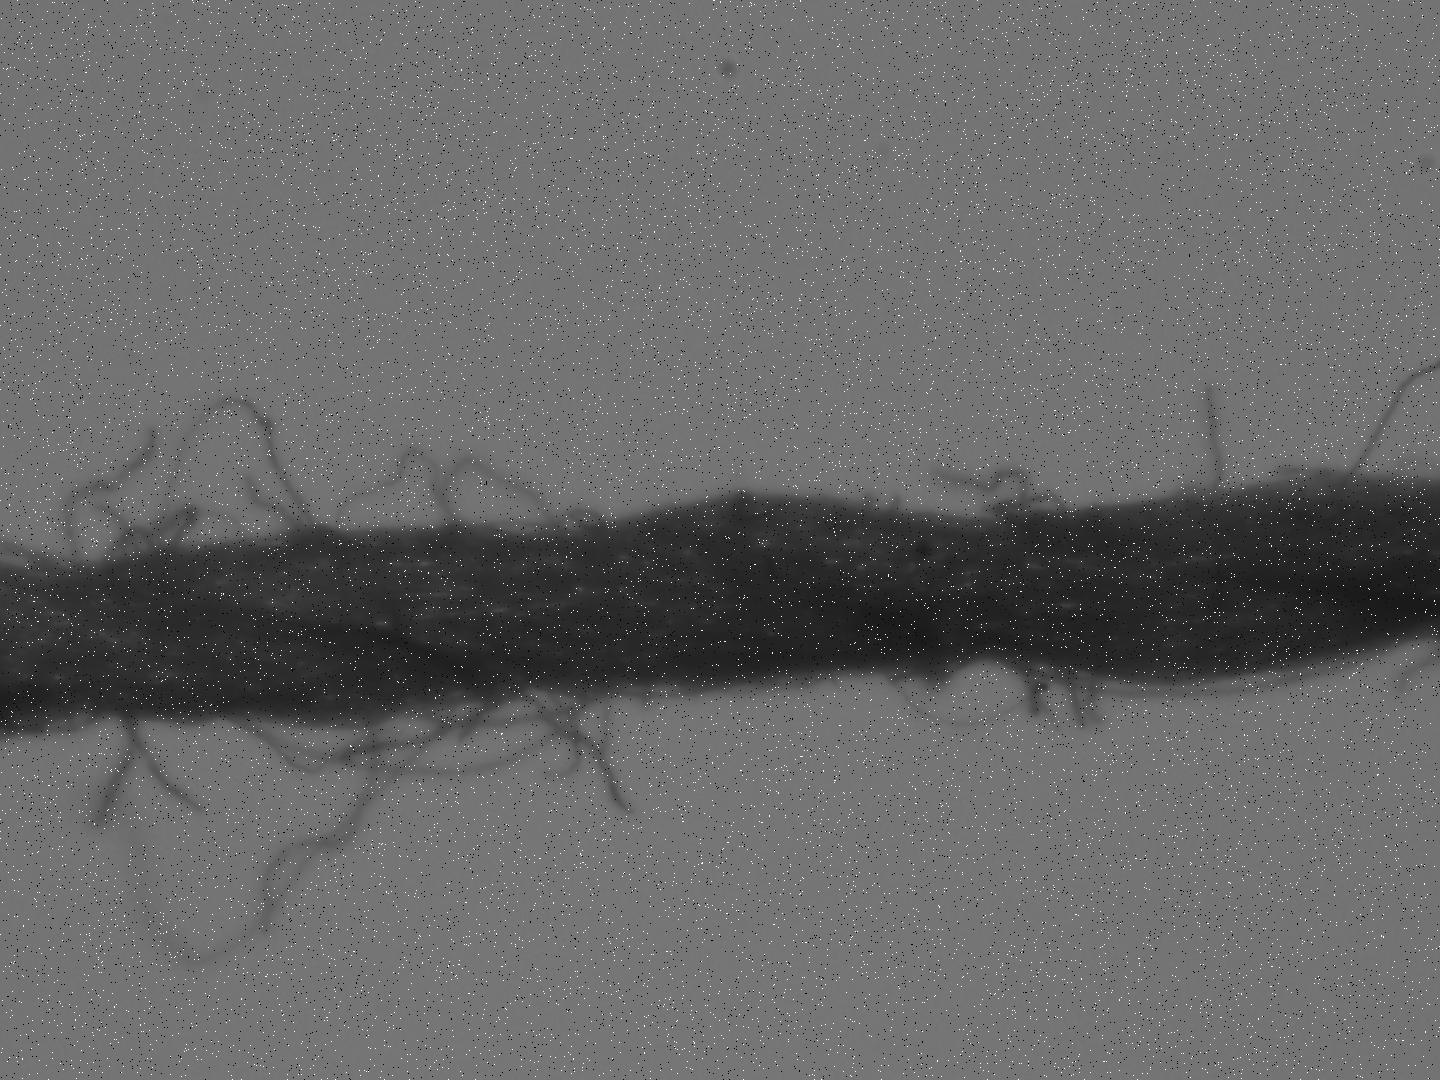loop_fiber: (223, 684, 731, 782), (98, 397, 323, 568), (327, 444, 613, 538), (1033, 636, 1405, 704), (881, 656, 1061, 732), (983, 489, 1077, 531), (0, 535, 66, 582), (1387, 457, 1438, 486)
protruding_fiber: (129, 695, 459, 971), (261, 709, 383, 939), (57, 419, 158, 582), (1338, 363, 1439, 495), (551, 698, 637, 817), (117, 708, 209, 815), (548, 690, 624, 781), (81, 716, 134, 836), (929, 465, 1027, 523), (243, 478, 316, 543), (1394, 630, 1439, 702), (1201, 394, 1226, 497), (1061, 670, 1089, 740), (1086, 670, 1106, 728)
